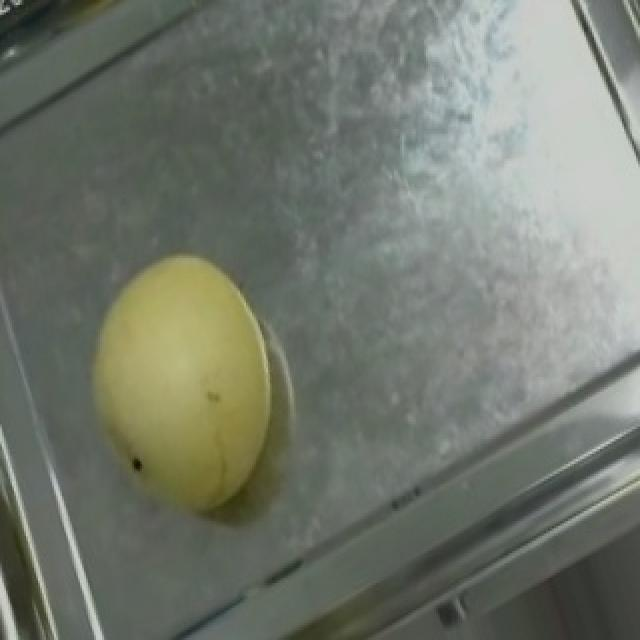Fruit: (46, 218, 318, 548)
